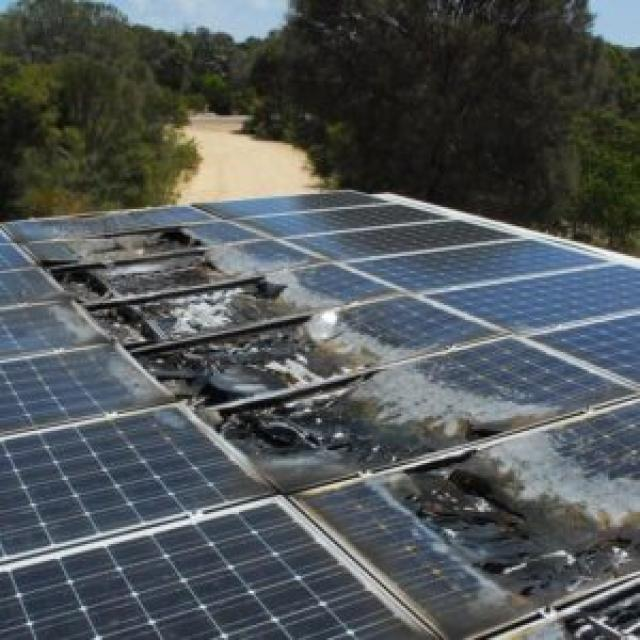Electrical-damage: (36, 215, 638, 630)
